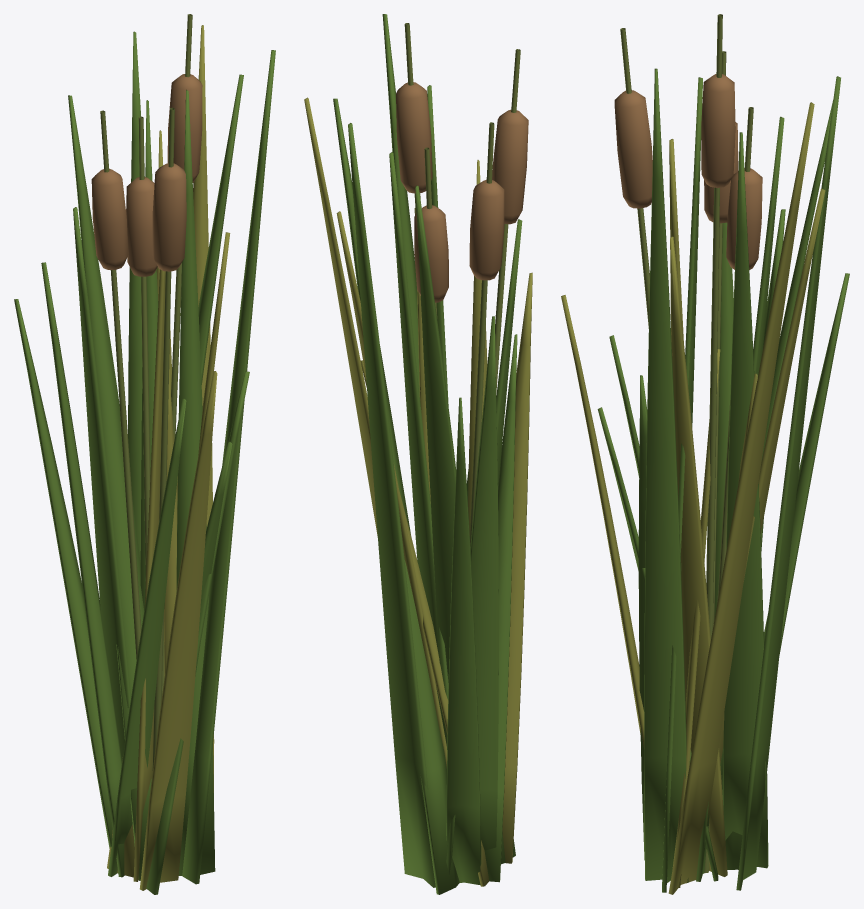
File: shore_cattail.glb
3 renders of one model, left to right at view 1: azimuth 30°, elevation 25°; view 2: azimuth 150°, elevation 25°; view 3: azimuth 270°, elevation 25°, orthographic. The views are drawn at different scales.
Visible parts, largest first — view 1: reed_green, reed_olive, cattail_head, reed_stem; view 2: reed_green, reed_olive, cattail_head, reed_stem; view 3: reed_green, reed_olive, cattail_head, reed_stem.
Part boxes in pixels (x1=…): reed_green: x1=14, y1=31, x2=275, y2=894; reed_olive: x1=107, y1=25, x2=230, y2=890; cattail_head: x1=91, y1=74, x2=202, y2=276; reed_stem: x1=100, y1=14, x2=192, y2=770; reed_green: x1=333, y1=14, x2=522, y2=894; reed_olive: x1=304, y1=97, x2=532, y2=886; cattail_head: x1=396, y1=82, x2=528, y2=302; reed_stem: x1=404, y1=23, x2=520, y2=546; reed_green: x1=597, y1=68, x2=849, y2=892; reed_olive: x1=561, y1=102, x2=825, y2=894; cattail_head: x1=614, y1=74, x2=762, y2=269; reed_stem: x1=620, y1=14, x2=753, y2=873.
Size of the model in its own units: 0.3787 by 1.67 by 0.4964.
